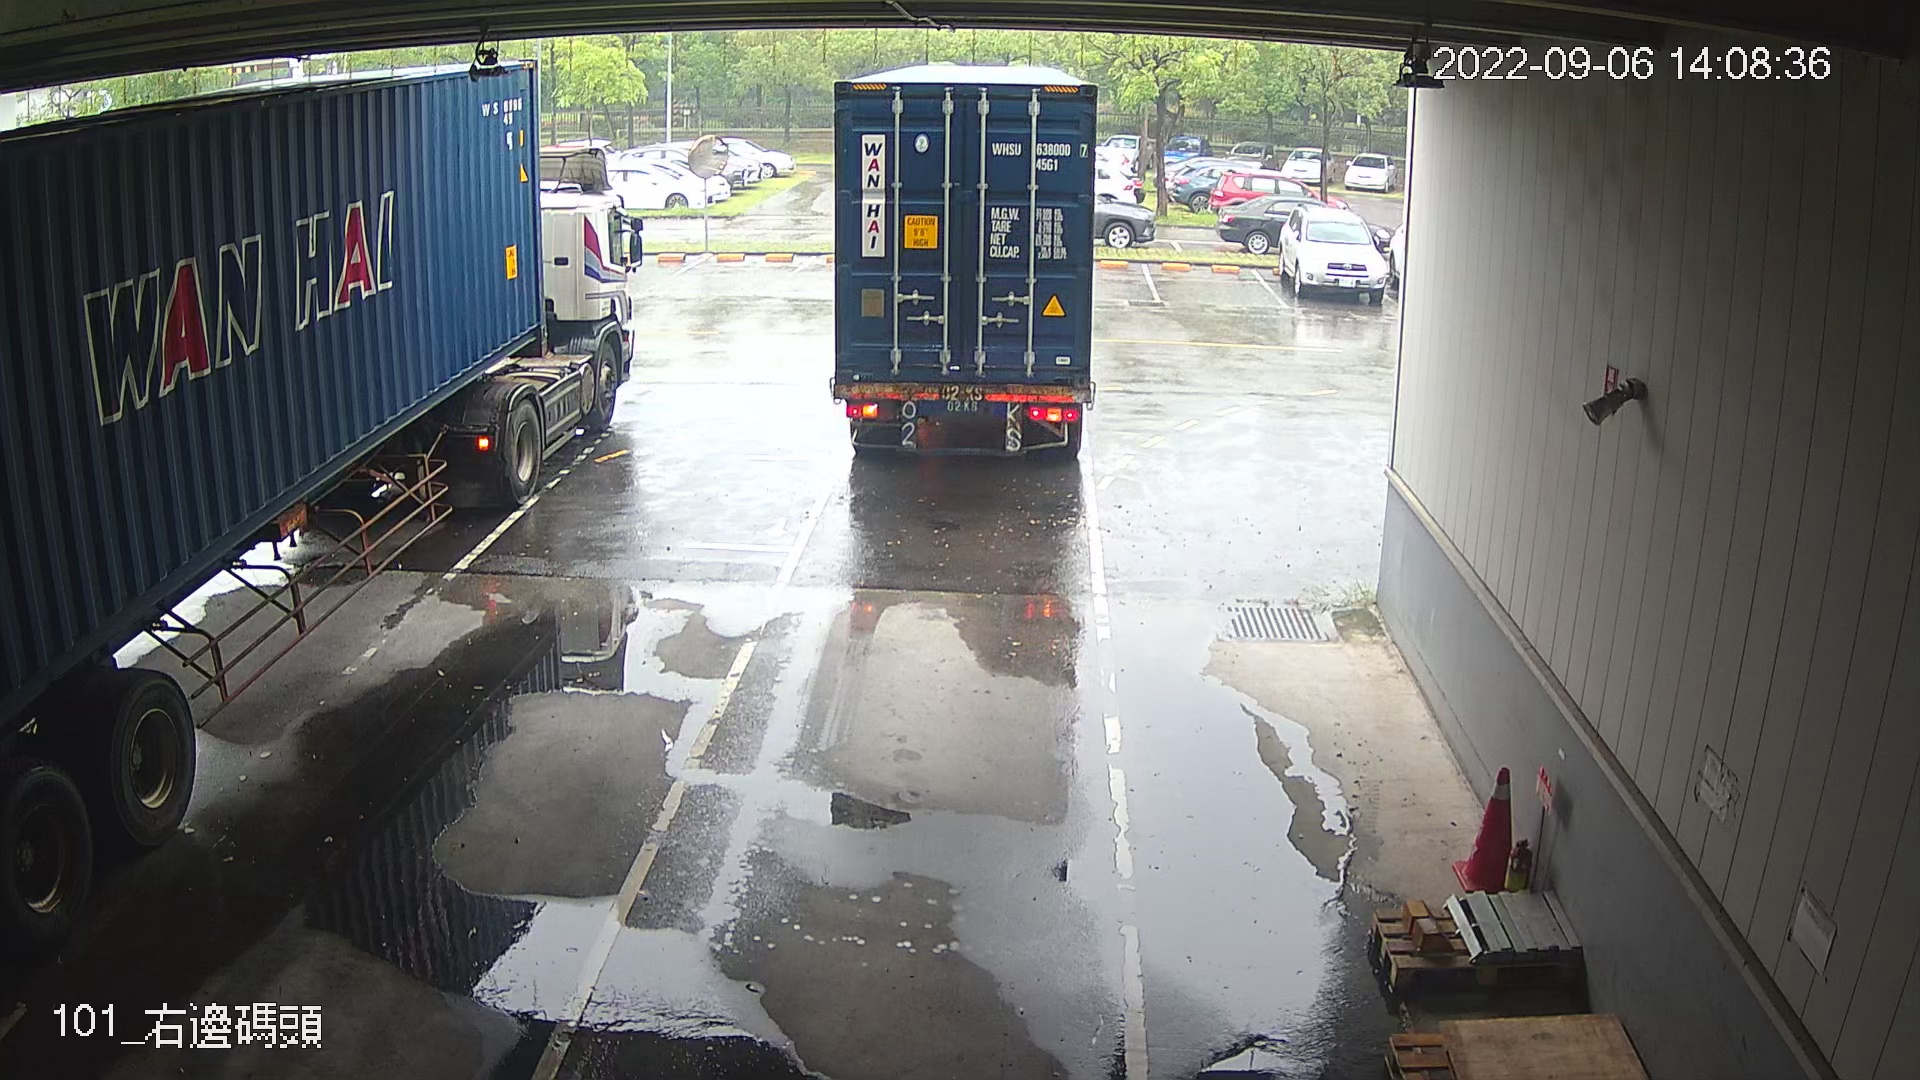container: (985, 133, 1092, 177)
